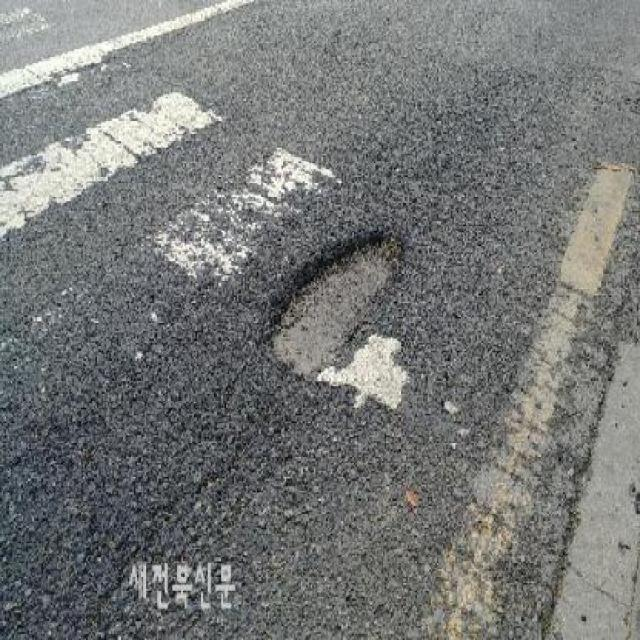Pothole: (259, 216, 412, 384)
